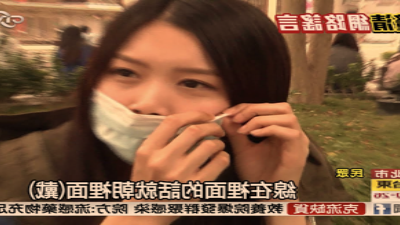mask_weared_incorrect: (85, 47, 228, 169)
